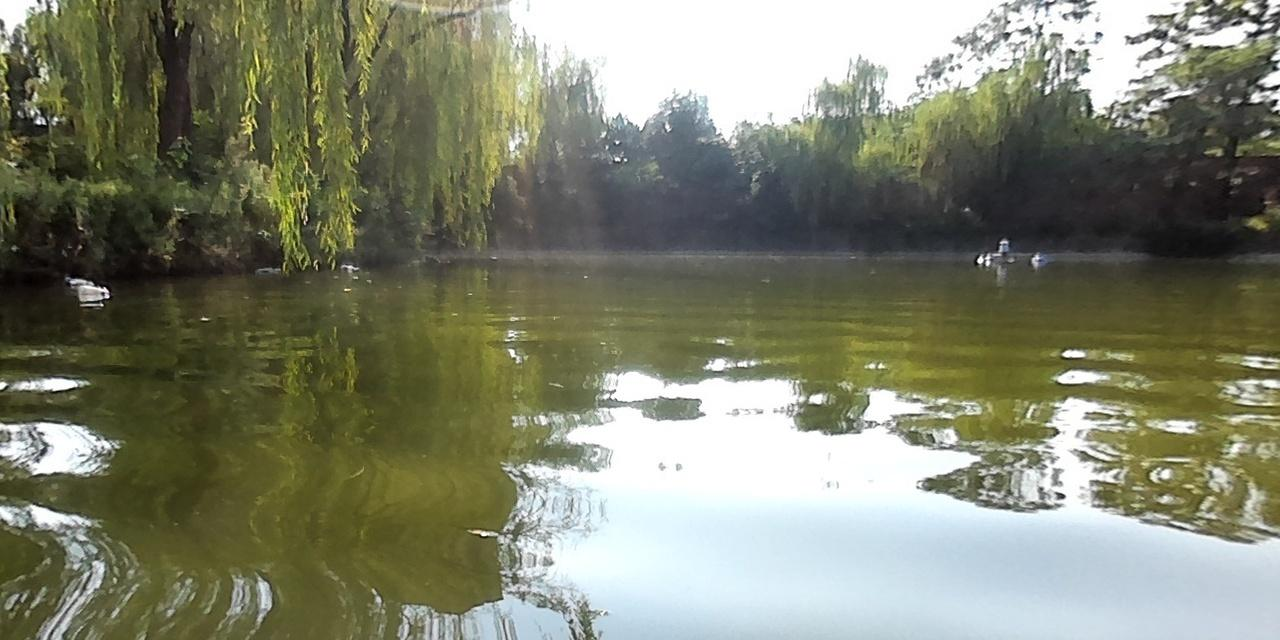bottle: (77, 284, 109, 299)
